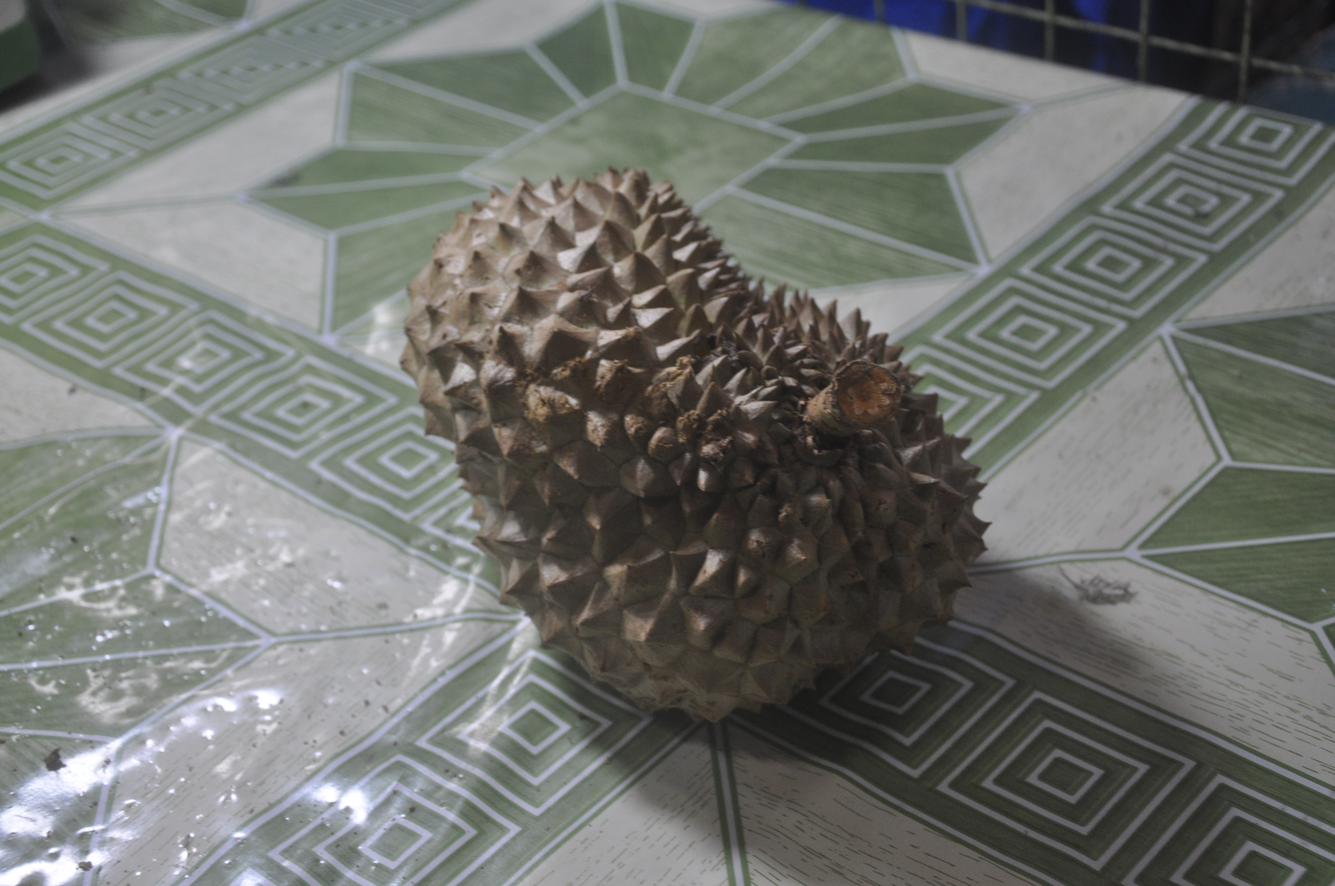mature: (402, 170, 986, 720)
